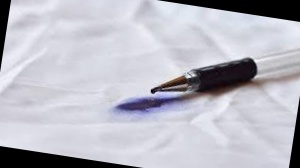ink: (115, 91, 172, 120)
